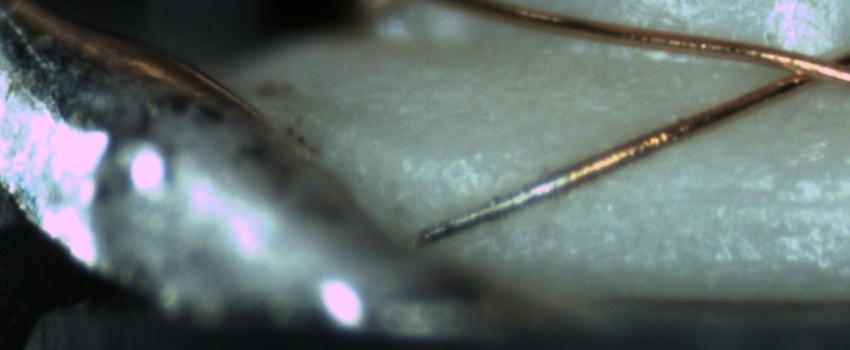CL: (767, 44, 845, 94)
DL: (609, 167, 850, 231)
TS: (413, 167, 570, 247)
